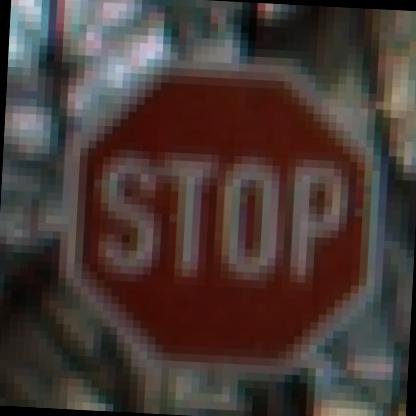stop: (51, 33, 392, 374)
